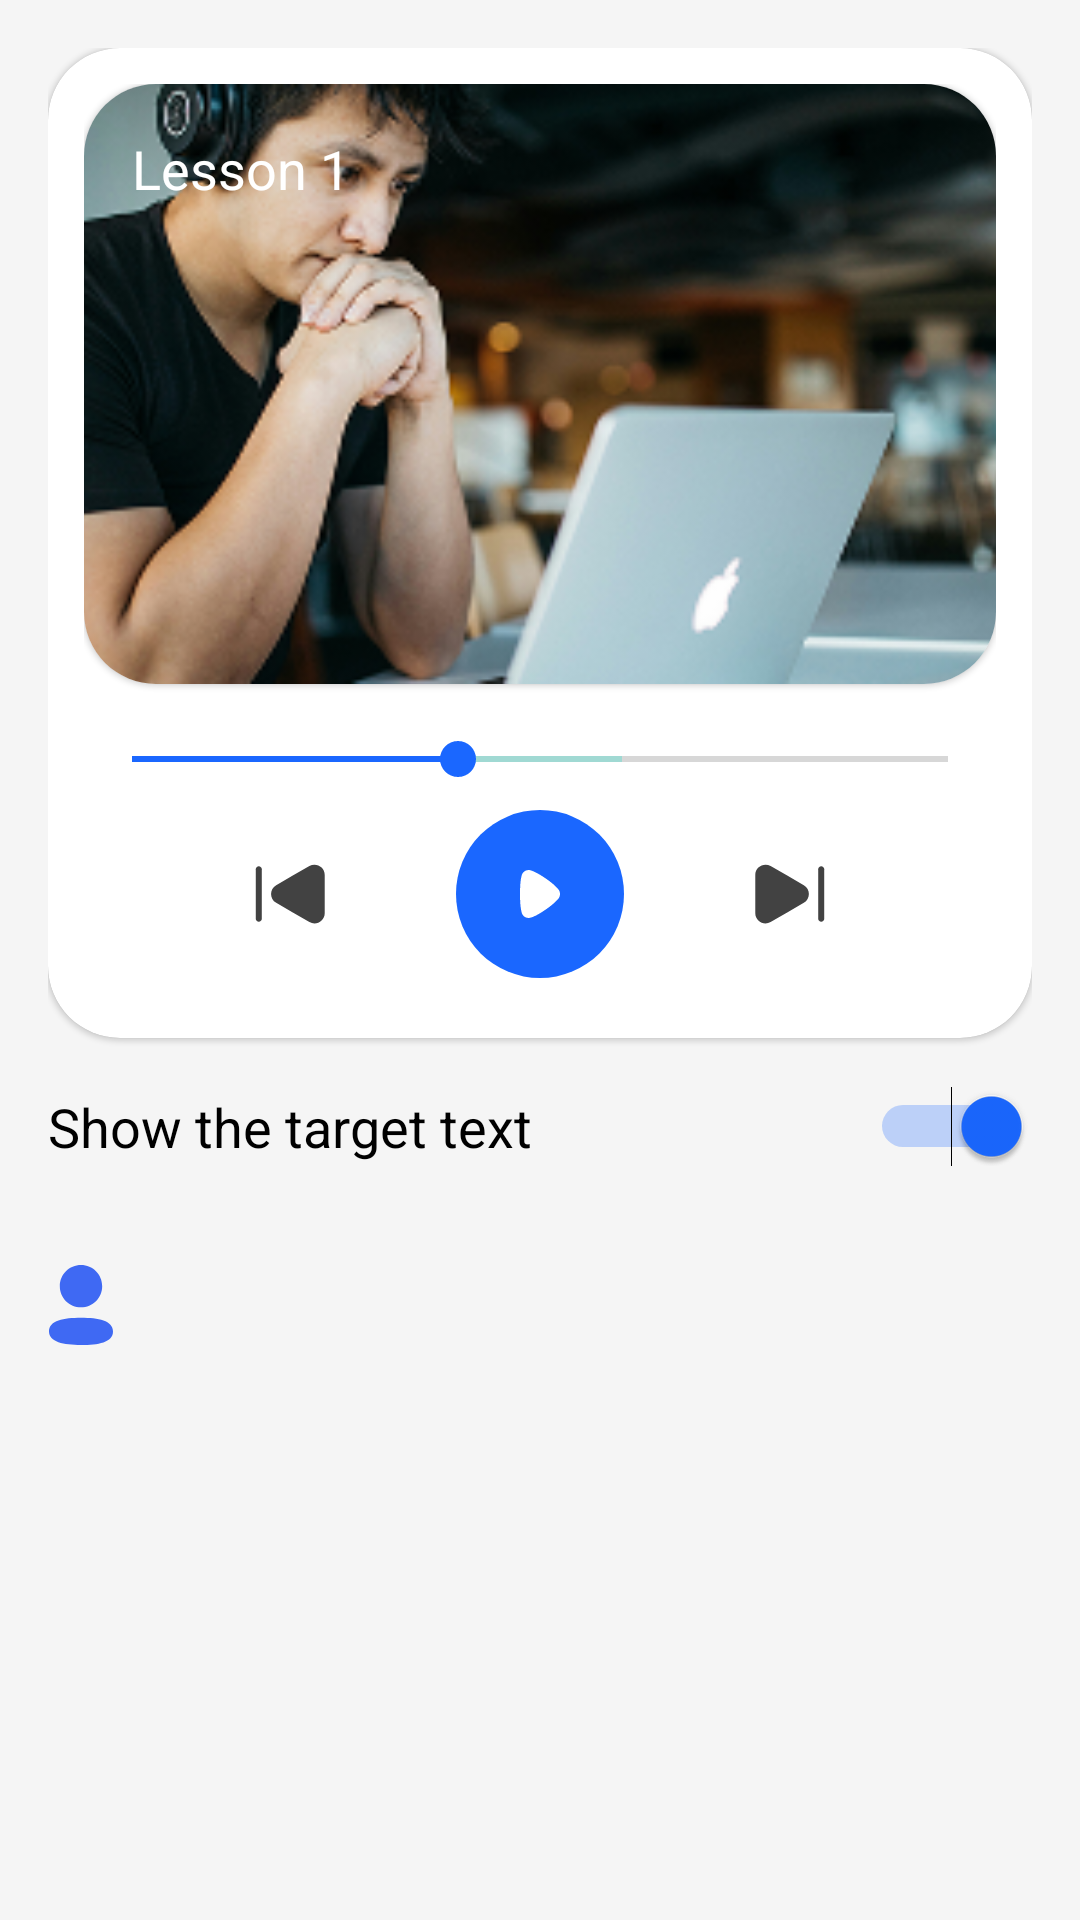

Icons on this 1080*1920 Android screen, each with the point to tap as [x,y]:
next: [790,894]
play/pause: [540,894]
profile: [81,1305]
Rewind: [290,894]
